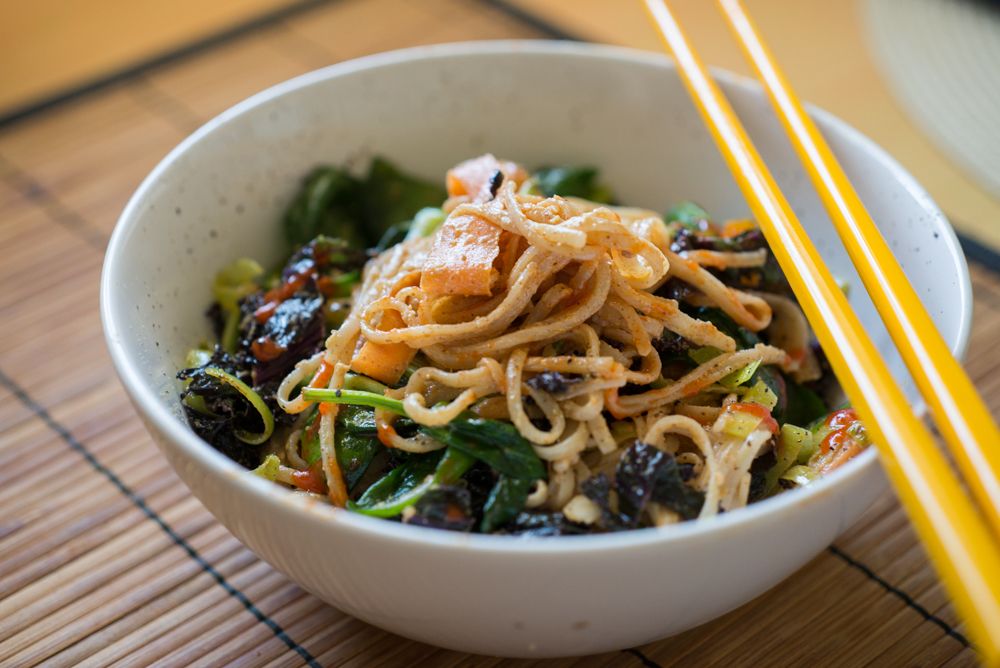Soba: (240, 194, 855, 544)
